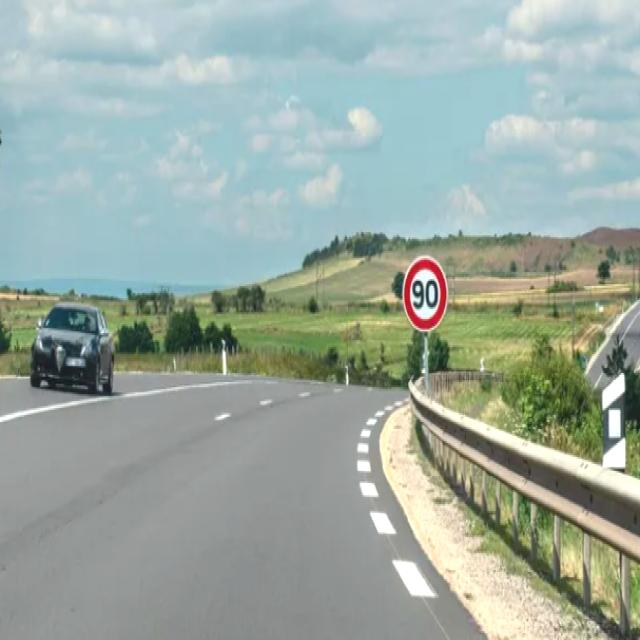speed_90: (404, 253, 449, 334)
